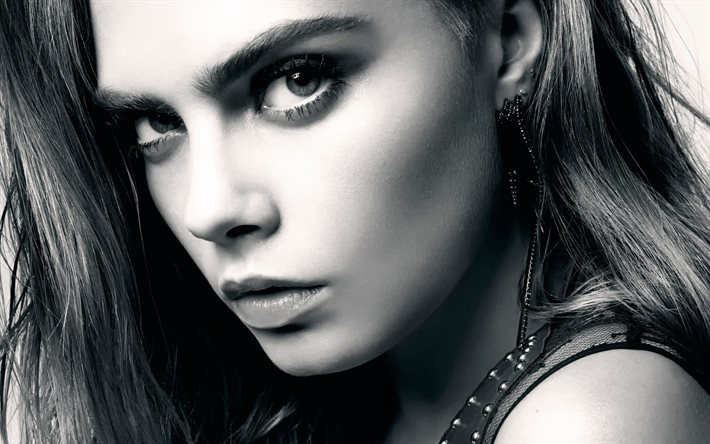GIRL: (55, 1, 555, 386)
